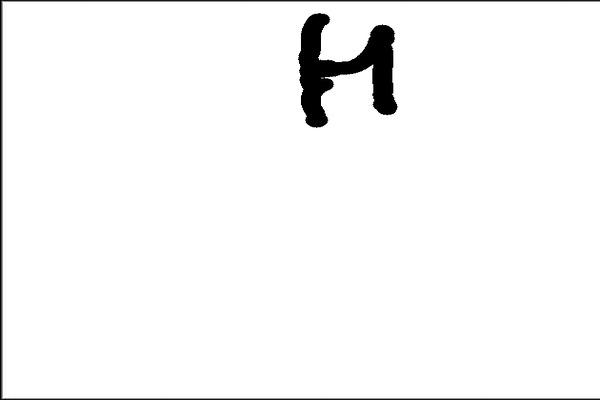H: (290, 6, 402, 127)
